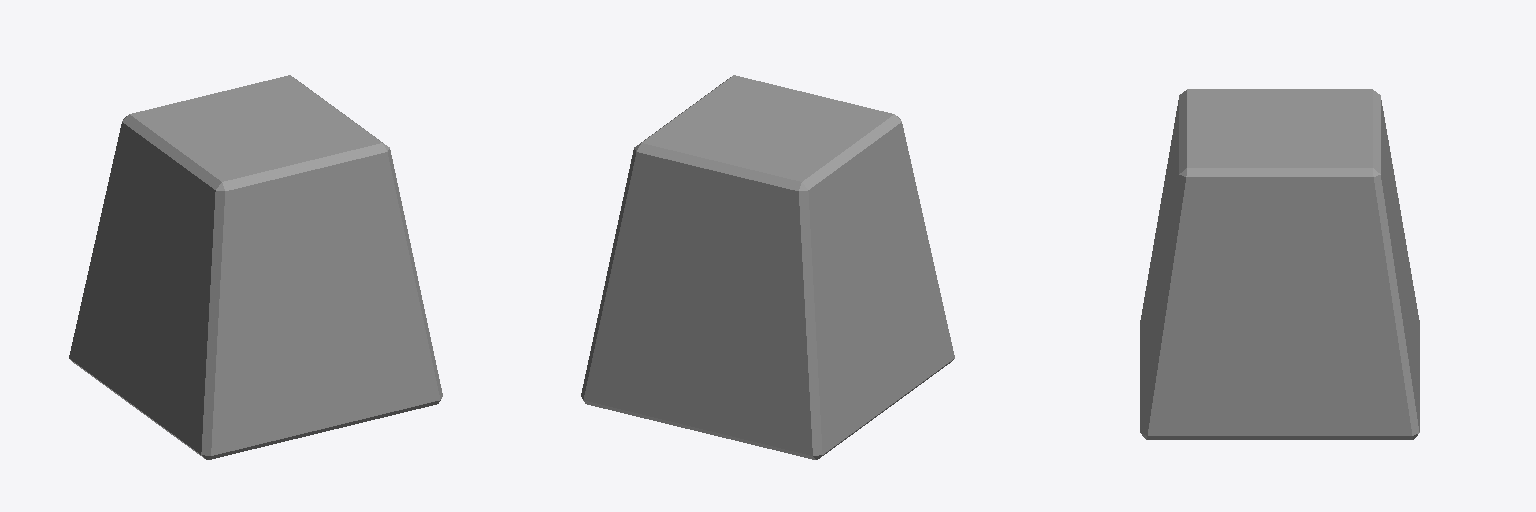
The model's file is baseViga.obj.
3 renders of one model, left to right at view 1: azimuth 30°, elevation 25°; view 2: azimuth 150°, elevation 25°; view 3: azimuth 270°, elevation 25°, orthographic.
Visible parts, largest first — view 1: Cube; view 2: Cube; view 3: Cube.
Part boxes in pixels (bbox=[...]): Cube: bbox=[69, 75, 442, 459]; Cube: bbox=[581, 75, 954, 459]; Cube: bbox=[1140, 89, 1419, 439].
Bounding box in the file's own units: 1.99 × 2 × 1.99.